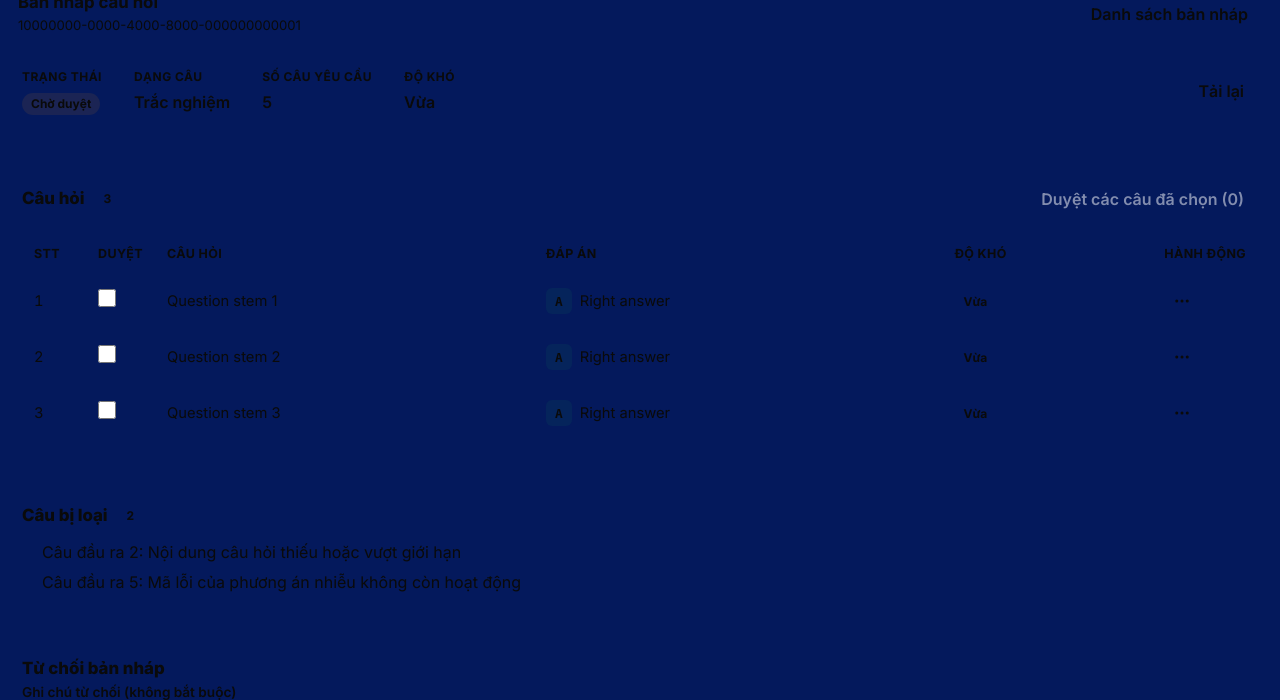
AiDraftDetailPage › keeps selected items and note after a 400 review failure
Click the checkbox named "Chọn câu 1 để duyệt".
click(107, 298)  # box [98,289,116,307]
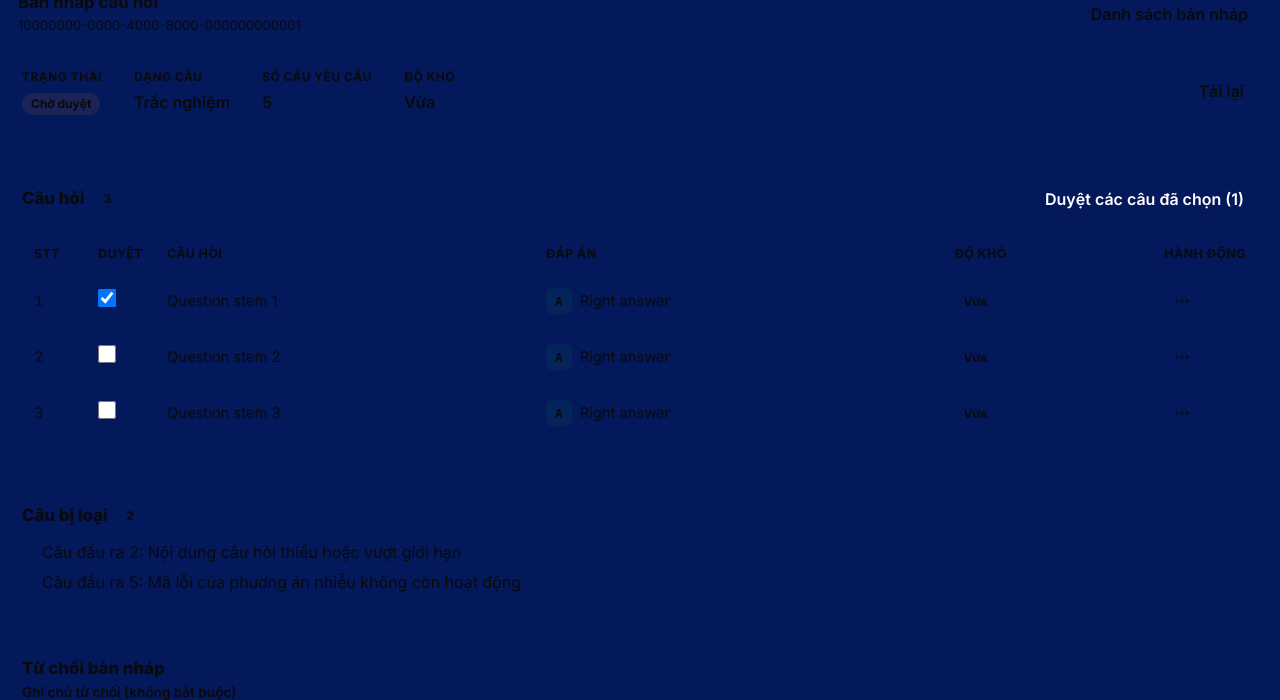
Click the checkbox named "Chọn câu 3 để duyệt".
click(107, 410)  # box [98,401,116,419]
(page scrolled)
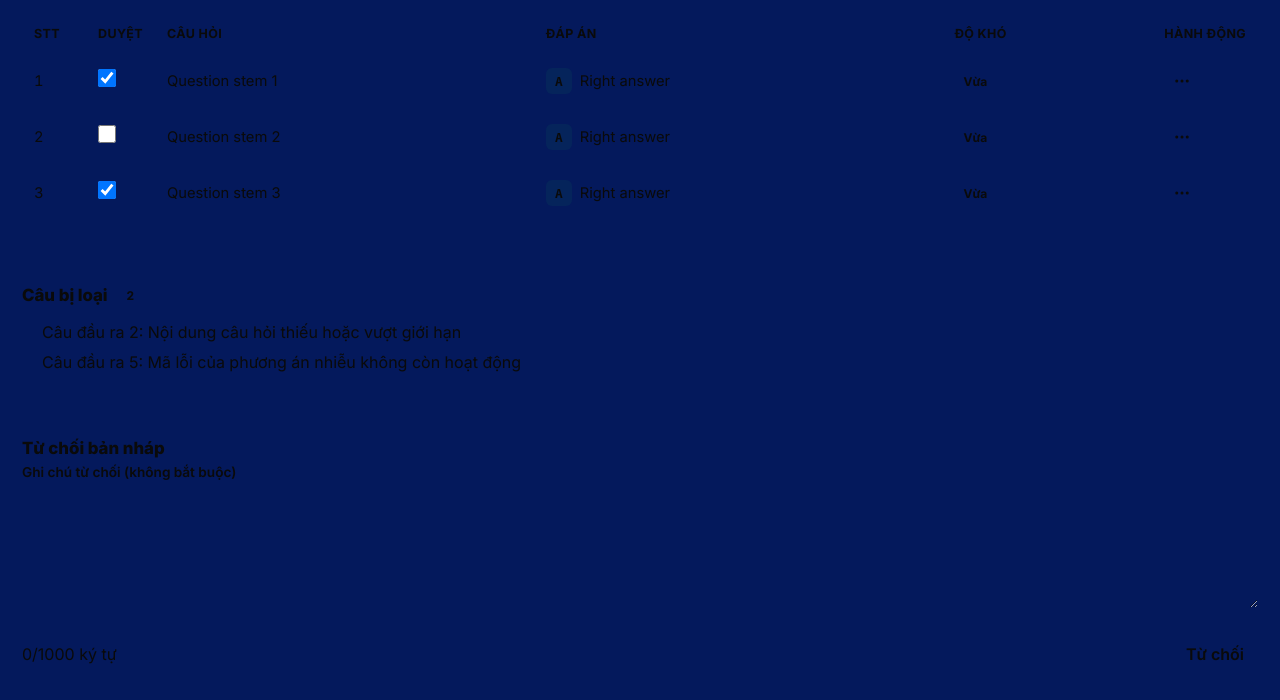
Type "Unsaved review note" into the text box labelled "Ghi chú từ chối (không bắt buộc)".
click(640, 548); type("Unsaved review note")  # box [22,488,1258,608]
(page scrolled)
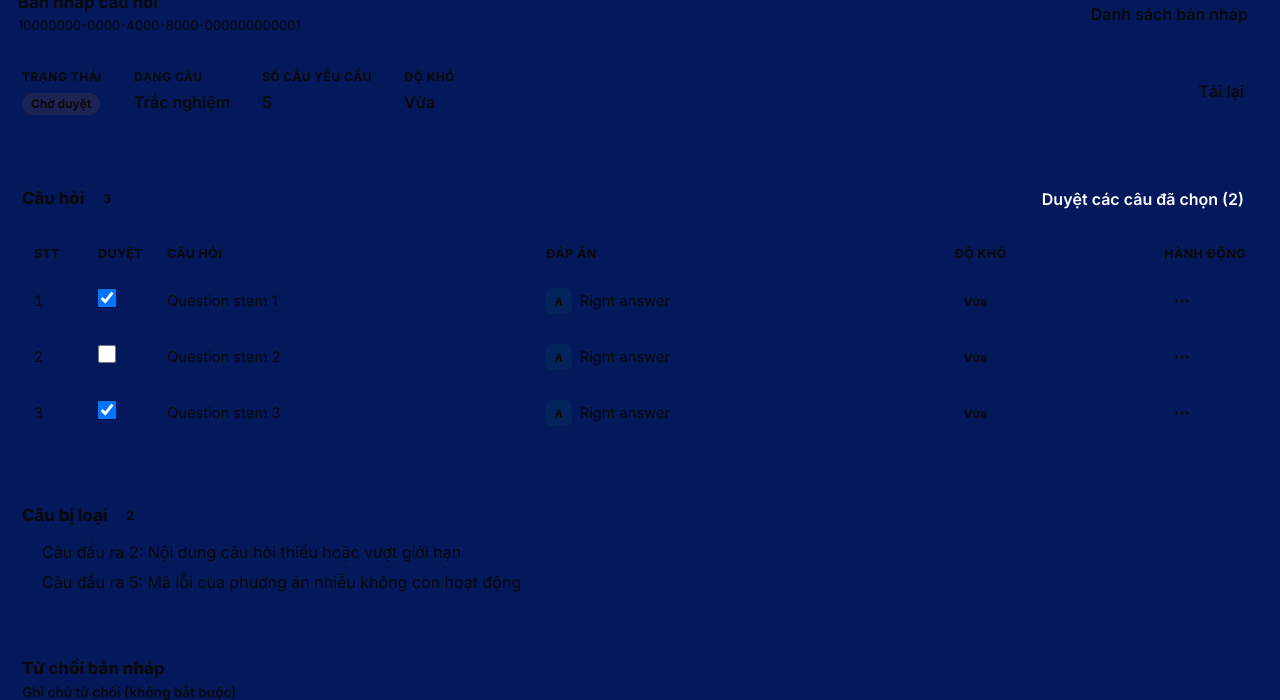
Click the button "Duyệt các câu đã chọn (2)".
click(1143, 198)  # box [1028,176,1258,220]
(page scrolled)
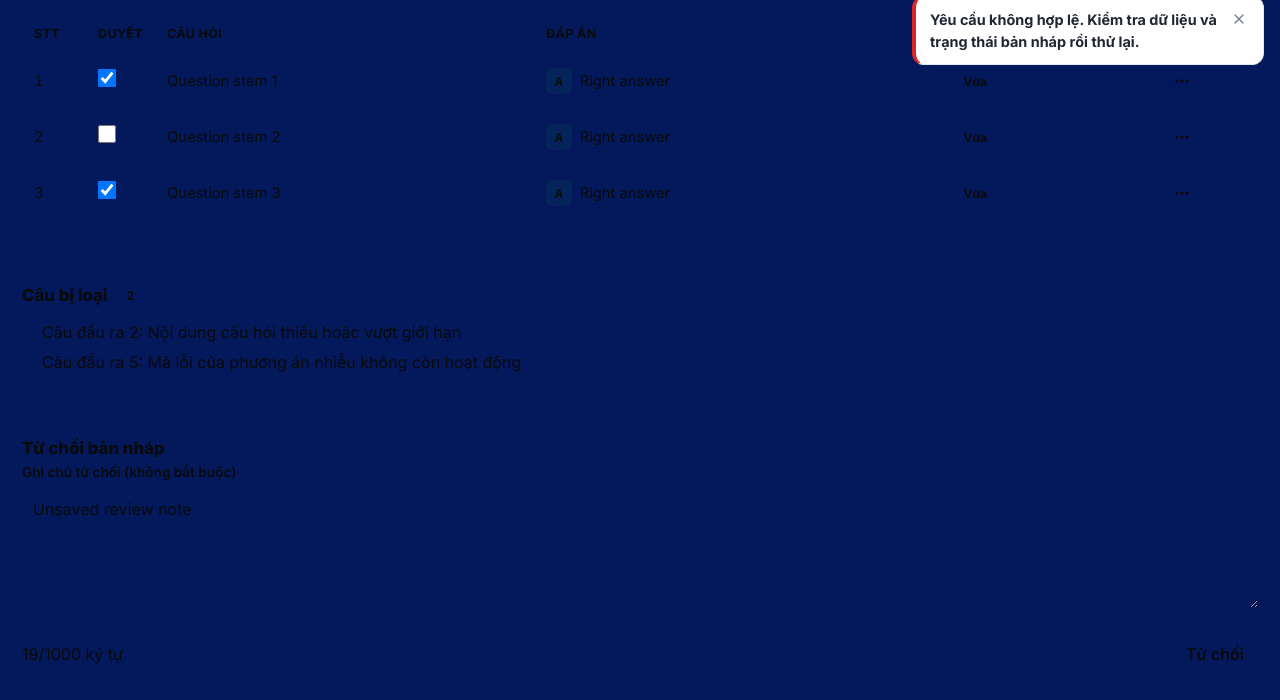
Check: the checkbox named "Chọn câu 1 để duyệt" is checked, box [98,69,116,87]
Check: the checkbox named "Chọn câu 3 để duyệt" is checked, box [98,181,116,199]
Check: the message reads "Yêu cầu không hợp lệ. Kiểm tra dữ liệu và trạng thái bản nháp rồi thử lại.", box [930,11,1217,50]
